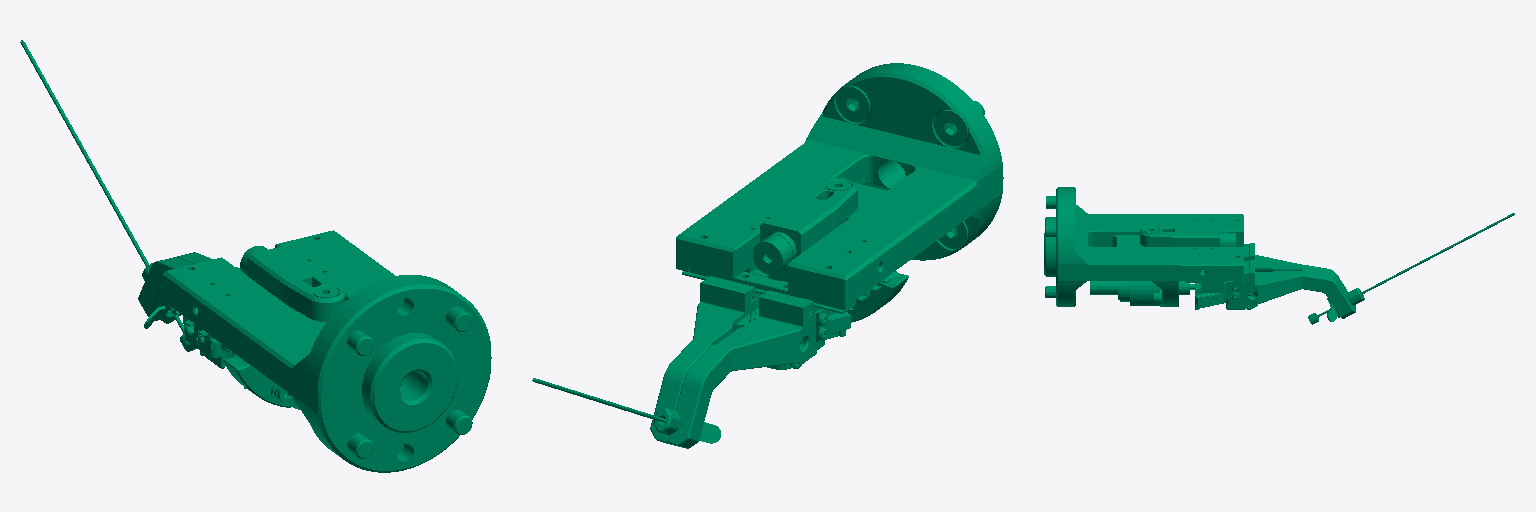
URDF robot description (ur5e):
<?xml version="1.0" encoding="utf-8"?>
<!-- =================================================================================== -->
<!-- |    This document was autogenerated by xacro from ur5e_robot.urdf.xacro          | -->
<!-- |    EDITING THIS FILE BY HAND IS NOT RECOMMENDED                                 | -->
<!-- =================================================================================== -->
<robot name="ur5e">
  <gazebo>
    <plugin filename="libgazebo_ros_control.so" name="ros_control">
      <!--robotNamespace>/</robotNamespace-->
      <!--robotSimType>gazebo_ros_control/DefaultRobotHWSim</robotSimType-->
    </plugin>
    <!--
    <plugin name="gazebo_ros_power_monitor_controller" filename="libgazebo_ros_power_monitor.so">
      <alwaysOn>true</alwaysOn>
      <updateRate>1.0</updateRate>
      <timeout>5</timeout>
      <powerStateTopic>power_state</powerStateTopic>
      <powerStateRate>10.0</powerStateRate>
      <fullChargeCapacity>87.78</fullChargeCapacity>     
      <dischargeRate>-474</dischargeRate>
      <chargeRate>525</chargeRate>
      <dischargeVoltage>15.52</dischargeVoltage>
      <chargeVoltage>16.41</chargeVoltage>
    </plugin>
-->
  </gazebo>
  <!--property name="shoulder_height" value="0.089159" /-->
  <!--property name="shoulder_offset" value="0.13585" /-->
  <!-- shoulder_offset - elbow_offset + wrist_1_length = 0.10915 -->
  <!--property name="upper_arm_length" value="0.42500" /-->
  <!--property name="elbow_offset" value="0.1197" /-->
  <!-- CAD measured -->
  <!--property name="forearm_length" value="0.39225" /-->
  <!--property name="wrist_1_length" value="0.093" /-->
  <!-- CAD measured -->
  <!--property name="wrist_2_length" value="0.09465" /-->
  <!-- In CAD this distance is 0.930, but in the spec it is 0.09465 -->
  <!--property name="wrist_3_length" value="0.0823" /-->
  <!-- manually measured -->
  <link name="base_link">
    <visual>
      <geometry>
        <mesh filename="../meshes/ur5e/visual/base.dae"/>
      </geometry>
      <material name="LightGrey">
        <color rgba="0.7 0.7 0.7 1.0"/>
      </material>
    </visual>
    <collision>
      <geometry>
        <mesh filename="../meshes/ur5e/collision/base.stl"/>
      </geometry>
    </collision>
    <inertial>
      <mass value="4.0"/>
      <origin rpy="0 0 0" xyz="0.0 0.0 0.0"/>
      <inertia ixx="0.00443333156" ixy="0.0" ixz="0.0" iyy="0.00443333156" iyz="0.0" izz="0.0072"/>
    </inertial>
  </link>
  <joint name="shoulder_pan_joint" type="revolute">
    <parent link="base_link"/>
    <child link="shoulder_link"/>
    <origin rpy="0.0 0.0 0.0" xyz="0.0 0.0 0.163"/>
    <axis xyz="0 0 1"/>
    <limit effort="150.0" lower="-6.28318530718" upper="6.28318530718" velocity="3.14"/>
    <dynamics damping="0.0" friction="0.0"/>
  </joint>
  <link name="shoulder_link">
    <visual>
      <geometry>
        <mesh filename="../meshes/ur5e/visual/shoulder.dae"/>
      </geometry>
      <material name="LightGrey">
        <color rgba="0.7 0.7 0.7 1.0"/>
      </material>
    </visual>
    <collision>
      <geometry>
        <mesh filename="../meshes/ur5e/collision/shoulder.stl"/>
      </geometry>
    </collision>
    <inertial>
      <mass value="3.7"/>
      <origin rpy="0 0 0" xyz="0.0 0.0 0.0"/>
      <inertia ixx="0.010267495893" ixy="0.0" ixz="0.0" iyy="0.010267495893" iyz="0.0" izz="0.00666"/>
    </inertial>
  </link>
  <joint name="shoulder_lift_joint" type="revolute">
    <parent link="shoulder_link"/>
    <child link="upper_arm_link"/>
    <origin rpy="0.0 1.57079632679 0.0" xyz="0.0 0.138 0.0"/>
    <axis xyz="0 1 0"/>
    <limit effort="150.0" lower="-6.28318530718" upper="6.28318530718" velocity="3.14"/>
    <dynamics damping="0.0" friction="0.0"/>
  </joint>
  <link name="upper_arm_link">
    <visual>
      <geometry>
        <mesh filename="../meshes/ur5e/visual/upperarm.dae"/>
      </geometry>
      <material name="LightGrey">
        <color rgba="0.7 0.7 0.7 1.0"/>
      </material>
    </visual>
    <collision>
      <geometry>
        <mesh filename="../meshes/ur5e/collision/upperarm.stl"/>
      </geometry>
    </collision>
    <inertial>
      <mass value="8.393"/>
      <origin rpy="0 0 0" xyz="0.0 0.0 0.2125"/>
      <inertia ixx="0.133885781862" ixy="0.0" ixz="0.0" iyy="0.133885781862" iyz="0.0" izz="0.0151074"/>
    </inertial>
  </link>
  <joint name="elbow_joint" type="revolute">
    <parent link="upper_arm_link"/>
    <child link="forearm_link"/>
    <origin rpy="0.0 0.0 0.0" xyz="0.0 -0.131 0.425"/>
    <axis xyz="0 1 0"/>
    <limit effort="150.0" lower="-3.14159265359" upper="3.14159265359" velocity="3.14"/>
    <dynamics damping="0.0" friction="0.0"/>
  </joint>
  <link name="forearm_link">
    <visual>
      <geometry>
        <mesh filename="../meshes/ur5e/visual/forearm.dae"/>
      </geometry>
      <material name="LightGrey">
        <color rgba="0.7 0.7 0.7 1.0"/>
      </material>
    </visual>
    <collision>
      <geometry>
        <mesh filename="../meshes/ur5e/collision/forearm.stl"/>
      </geometry>
    </collision>
    <inertial>
      <mass value="2.275"/>
      <origin rpy="0 0 0" xyz="0.0 0.0 0.196"/>
      <inertia ixx="0.0311796208615" ixy="0.0" ixz="0.0" iyy="0.0311796208615" iyz="0.0" izz="0.004095"/>
    </inertial>
  </link>
  <joint name="wrist_1_joint" type="revolute">
    <parent link="forearm_link"/>
    <child link="wrist_1_link"/>
    <origin rpy="0.0 1.57079632679 0.0" xyz="0.0 0.0 0.392"/>
    <axis xyz="0 1 0"/>
    <limit effort="28.0" lower="-6.28318530718" upper="6.28318530718" velocity="6.28"/>
    <dynamics damping="0.0" friction="0.0"/>
  </joint>
  <link name="wrist_1_link">
    <visual>
      <geometry>
        <mesh filename="../meshes/ur5e/visual/wrist1.dae"/>
      </geometry>
      <material name="LightGrey">
        <color rgba="0.7 0.7 0.7 1.0"/>
      </material>
    </visual>
    <collision>
      <geometry>
        <mesh filename="../meshes/ur5e/collision/wrist1.stl"/>
      </geometry>
    </collision>
    <inertial>
      <mass value="1.219"/>
      <origin rpy="0 0 0" xyz="0.0 0.127 0.0"/>
      <inertia ixx="0.00255989897604" ixy="0.0" ixz="0.0" iyy="0.00255989897604" iyz="0.0" izz="0.0021942"/>
    </inertial>
  </link>
  <joint name="wrist_2_joint" type="revolute">
    <parent link="wrist_1_link"/>
    <child link="wrist_2_link"/>
    <origin rpy="0.0 0.0 0.0" xyz="0.0 0.127 0.0"/>
    <axis xyz="0 0 1"/>
    <limit effort="28.0" lower="-6.28318530718" upper="6.28318530718" velocity="6.28"/>
    <dynamics damping="0.0" friction="0.0"/>
  </joint>
  <link name="wrist_2_link">
    <visual>
      <geometry>
        <mesh filename="../meshes/ur5e/visual/wrist2.dae"/>
      </geometry>
      <material name="LightGrey">
        <color rgba="0.7 0.7 0.7 1.0"/>
      </material>
    </visual>
    <collision>
      <geometry>
        <mesh filename="../meshes/ur5e/collision/wrist2.stl"/>
      </geometry>
    </collision>
    <inertial>
      <mass value="1.219"/>
      <origin rpy="0 0 0" xyz="0.0 0.0 0.1"/>
      <inertia ixx="0.00255989897604" ixy="0.0" ixz="0.0" iyy="0.00255989897604" iyz="0.0" izz="0.0021942"/>
    </inertial>
  </link>
  <joint name="wrist_3_joint" type="revolute">
    <parent link="wrist_2_link"/>
    <child link="wrist_3_link"/>
    <origin rpy="0.0 0.0 0.0" xyz="0.0 0.0 0.1"/>
    <axis xyz="0 1 0"/>
    <limit effort="28.0" lower="-6.28318530718" upper="6.28318530718" velocity="6.28"/>
    <dynamics damping="0.0" friction="0.0"/>
  </joint>
  <link name="wrist_3_link">
    <visual>
      <geometry>
        <mesh filename="../meshes/ur5e/visual/wrist3.dae"/>
      </geometry>
      <material name="LightGrey">
        <color rgba="0.7 0.7 0.7 1.0"/>
      </material>
    </visual>
    <collision>
      <geometry>
        <mesh filename="../meshes/ur5e/collision/wrist3.stl"/>
      </geometry>
    </collision>
    <inertial>
      <mass value="0.1879"/>
      <origin rpy="1.57079632679 0 0" xyz="0.0 0.0771 0.0"/>
      <inertia ixx="9.89041005217e-05" ixy="0.0" ixz="0.0" iyy="9.89041005217e-05" iyz="0.0" izz="0.0001321171875"/>
    </inertial>
  </link>
  <joint name="ee_fixed_joint" type="fixed">
    <parent link="wrist_3_link"/>
    <child link="ee_link"/>
    <origin rpy="0.0 0.0 1.57079632679" xyz="0.0 0.1 0.0"/>
  </joint>
  <link name="ee_link">
    <collision>
      <geometry>
        <box size="0.01 0.01 0.01"/>
      </geometry>
      <origin rpy="0 0 0" xyz="-0.01 0 0"/>
    </collision>
  </link>
  <transmission name="shoulder_pan_trans">
    <type>transmission_interface/SimpleTransmission</type>
    <joint name="shoulder_pan_joint">
      <hardwareInterface>hardware_interface/PositionJointInterface</hardwareInterface>
    </joint>
    <actuator name="shoulder_pan_motor">
      <mechanicalReduction>1</mechanicalReduction>
    </actuator>
  </transmission>
  <transmission name="shoulder_lift_trans">
    <type>transmission_interface/SimpleTransmission</type>
    <joint name="shoulder_lift_joint">
      <hardwareInterface>hardware_interface/PositionJointInterface</hardwareInterface>
    </joint>
    <actuator name="shoulder_lift_motor">
      <mechanicalReduction>1</mechanicalReduction>
    </actuator>
  </transmission>
  <transmission name="elbow_trans">
    <type>transmission_interface/SimpleTransmission</type>
    <joint name="elbow_joint">
      <hardwareInterface>hardware_interface/PositionJointInterface</hardwareInterface>
    </joint>
    <actuator name="elbow_motor">
      <mechanicalReduction>1</mechanicalReduction>
    </actuator>
  </transmission>
  <transmission name="wrist_1_trans">
    <type>transmission_interface/SimpleTransmission</type>
    <joint name="wrist_1_joint">
      <hardwareInterface>hardware_interface/PositionJointInterface</hardwareInterface>
    </joint>
    <actuator name="wrist_1_motor">
      <mechanicalReduction>1</mechanicalReduction>
    </actuator>
  </transmission>
  <transmission name="wrist_2_trans">
    <type>transmission_interface/SimpleTransmission</type>
    <joint name="wrist_2_joint">
      <hardwareInterface>hardware_interface/PositionJointInterface</hardwareInterface>
    </joint>
    <actuator name="wrist_2_motor">
      <mechanicalReduction>1</mechanicalReduction>
    </actuator>
  </transmission>
  <transmission name="wrist_3_trans">
    <type>transmission_interface/SimpleTransmission</type>
    <joint name="wrist_3_joint">
      <hardwareInterface>hardware_interface/PositionJointInterface</hardwareInterface>
    </joint>
    <actuator name="wrist_3_motor">
      <mechanicalReduction>1</mechanicalReduction>
    </actuator>
  </transmission>
  <gazebo reference="shoulder_link">
    <selfCollide>true</selfCollide>
  </gazebo>
  <gazebo reference="upper_arm_link">
    <selfCollide>true</selfCollide>
  </gazebo>
  <gazebo reference="forearm_link">
    <selfCollide>true</selfCollide>
  </gazebo>
  <gazebo reference="wrist_1_link">
    <selfCollide>true</selfCollide>
  </gazebo>
  <gazebo reference="wrist_3_link">
    <selfCollide>true</selfCollide>
  </gazebo>
  <gazebo reference="wrist_2_link">
    <selfCollide>true</selfCollide>
  </gazebo>
  <gazebo reference="ee_link">
    <selfCollide>true</selfCollide>
  </gazebo>
  <!-- ROS base_link to UR 'Base' Coordinates transform -->
  <link name="base"/>
  <joint name="base_link-base_fixed_joint" type="fixed">
    <!-- NOTE: this rotation is only needed as long as base_link itself is
                 not corrected wrt the real robot (ie: rotated over 180
                 degrees)
      -->
    <origin rpy="0 0 -3.14159265359" xyz="0 0 0"/>
    <parent link="base_link"/>
    <child link="base"/>
  </joint>
  <!-- Frame coincident with all-zeros TCP on UR controller -->
  <link name="tool0"/>
  <joint name="wrist_3_link-tool0_fixed_joint" type="fixed">
    <origin rpy="-1.57079632679 0 0" xyz="0 0.1 0"/>
    <parent link="wrist_3_link"/>
    <child link="tool0"/>
  </joint>
    <!-- Create a fixed joint with a parameterized name. -->
  <joint name="measurement_tool_joint" type="fixed">
    <!-- The parent link must be read from the robot model it is attached to. -->
    <parent link="tool0"/>
    <child link="measurement_tool"/>
    <!-- The tool is directly attached to the flange. -->
    <origin rpy="0 3.14 0" xyz="0 0 0"/>
  </joint>

  <link name="measurement_tool">
    <contact>
      <lateral_friction value="10.0"/>
      <rolling_friction value="0.0"/>
      <contact_cfm value="0.0"/>
      <contact_erp value="1.0"/>
    </contact>
    <inertial>
      <origin rpy="0 0 0" xyz="0 0 0"/>
       <mass value="0.0"/>
       <inertia ixx="0.0001" ixy="0" ixz="0" iyy="1" iyz="0" izz="0.0001"/>
    </inertial>
    <visual>
      <geometry>
        <!-- The path to the visual meshes in the package. -->
        <mesh filename="../ur_ct_end_effector.stl" scale="0.001 0.001 0.001"/>
      </geometry>
    </visual>
      <collision>
      <!-- <origin rpy="0 0 0" xyz="0 0 0"/> -->
      <geometry>
        <mesh filename="../ur_ct_end_effector.stl" scale="0.001 0.001 0.001"/>
        <!-- <mesh size="0.025 0.025 0.025"/>  -->
      </geometry>
    </collision> 
  </link>

  <!-- TCP frame -->
  <joint name="tcp_joint" type="fixed">
    <origin rpy="0 0 0" xyz="0 0 0"/>
    <parent link="measurement_tool"/>
    <child link="tcp"/>
  </joint>
  <link name="tcp"/>

  <link name="world"/>
  <joint name="world_joint" type="fixed">
    <parent link="world"/>
    <child link="base_link"/>
    <origin rpy="0.0 0.0 0.0" xyz="0.0 0.0 0.0"/>
  </joint>
</robot>

--- Facts derived from the render (not from the file) ---
Views: 3 orthographic renders of the robot side by side, from view 1: azimuth 30°, elevation 25°; view 2: azimuth 150°, elevation 25°; view 3: azimuth 270°, elevation 25°.
Robot: ur5e — 13 links, 12 joints (6 revolute, 6 fixed); root link world; default pose: every joint at zero.
Visible links, largest first — view 1: measurement_tool; view 2: measurement_tool; view 3: measurement_tool.
Boxes of the visible links, bbox=[...] form: measurement_tool: bbox=[20, 40, 491, 472]; measurement_tool: bbox=[532, 63, 1003, 448]; measurement_tool: bbox=[1044, 187, 1514, 324].
Bounding box of the posed robot: 0.0624 × 0.2464 × 0.076 m (x, y, z).
1 mesh visuals loaded from 8 distinct referenced files (1 binary STL); not drawn: 7 (reference not matched to a file when rendering).